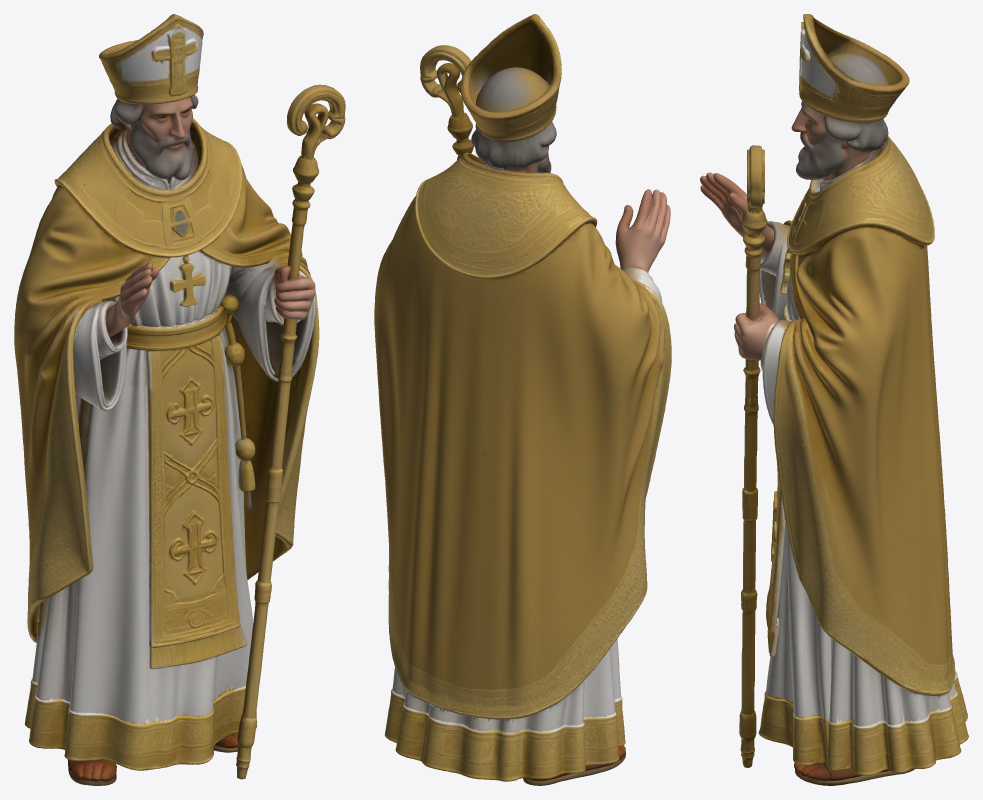
File: Επίσκοπος compressed.glb
The picture shows the model from 3 angles, left to right: view 1: azimuth 30°, elevation 25°; view 2: azimuth 150°, elevation 25°; view 3: azimuth 270°, elevation 25°; orthographic projection. The views are drawn at different scales.
Parts seen in each view (by area): view 1: node_0; view 2: node_0; view 3: node_0.
Boxes of the visible parts, x1=… form: node_0: x1=14, y1=14, x2=345, y2=785; node_0: x1=374, y1=14, x2=671, y2=785; node_0: x1=700, y1=14, x2=968, y2=785.
Size of the model in its own units: 0.4516 by 1.16 by 0.3842.
Materials: 1 (1 with a texture image).
